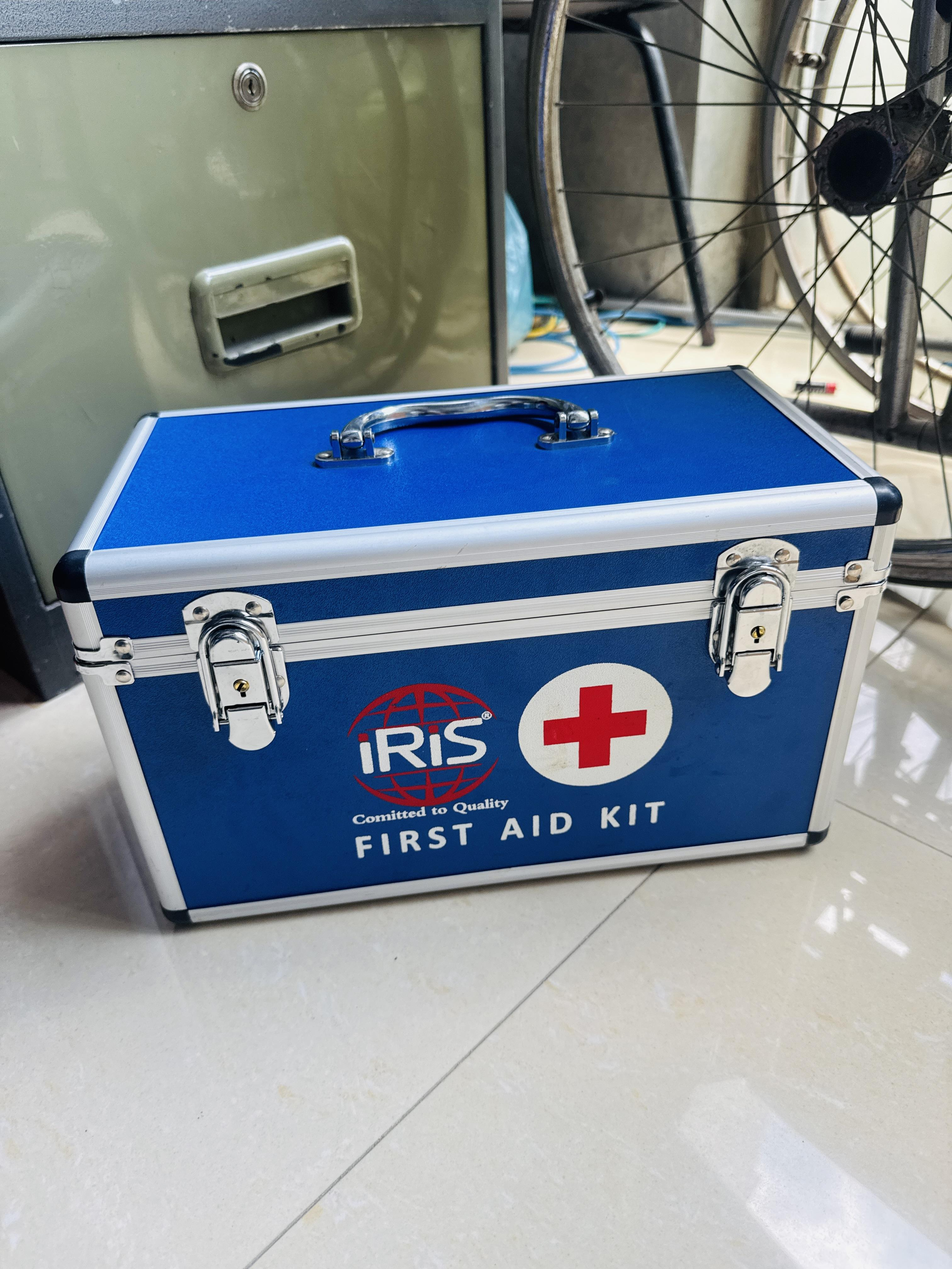FirstAidBox: (25, 360, 913, 952)
